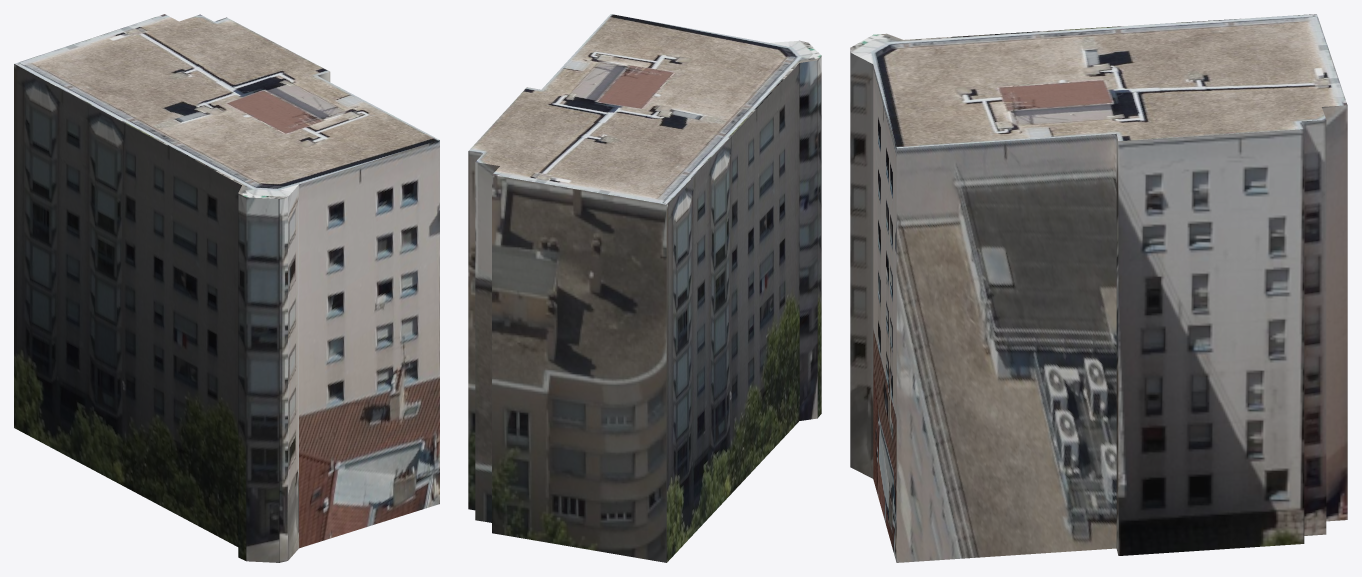
3 renders of one model, left to right at view 1: azimuth 30°, elevation 25°; view 2: azimuth 150°, elevation 25°; view 3: azimuth 270°, elevation 25°, orthographic. The views are drawn at different scales.
Parts seen in each view (by area): view 1: Z_UP; view 2: Z_UP; view 3: Z_UP.
Boxes of the visible parts, x1=… form: Z_UP: x1=14, y1=14, x2=439, y2=562; Z_UP: x1=468, y1=14, x2=821, y2=562; Z_UP: x1=850, y1=14, x2=1347, y2=562.
Size of the model in its own units: 15.95 by 22.96 by 24.96.
2 materials, 1 textured.
